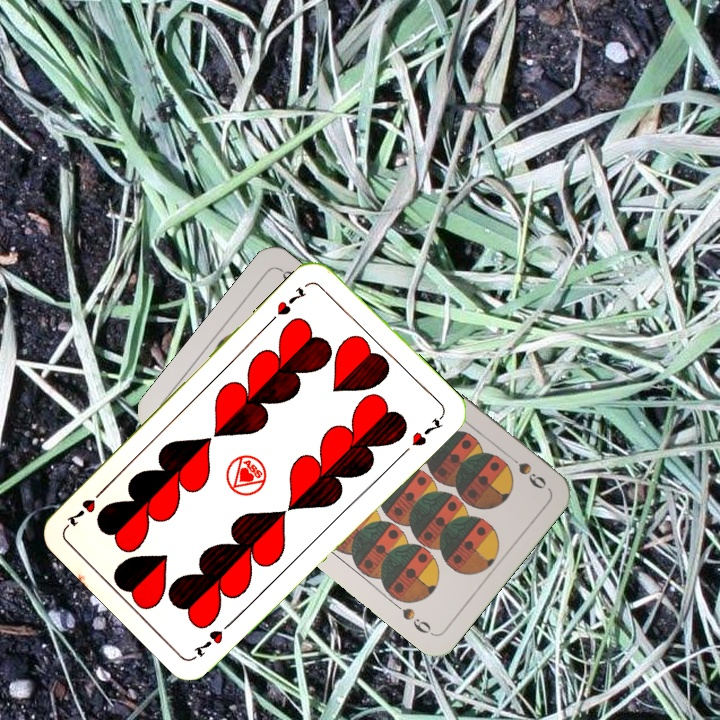H7: (189, 615, 238, 660), (273, 283, 309, 318)
S9: (501, 448, 550, 492)
